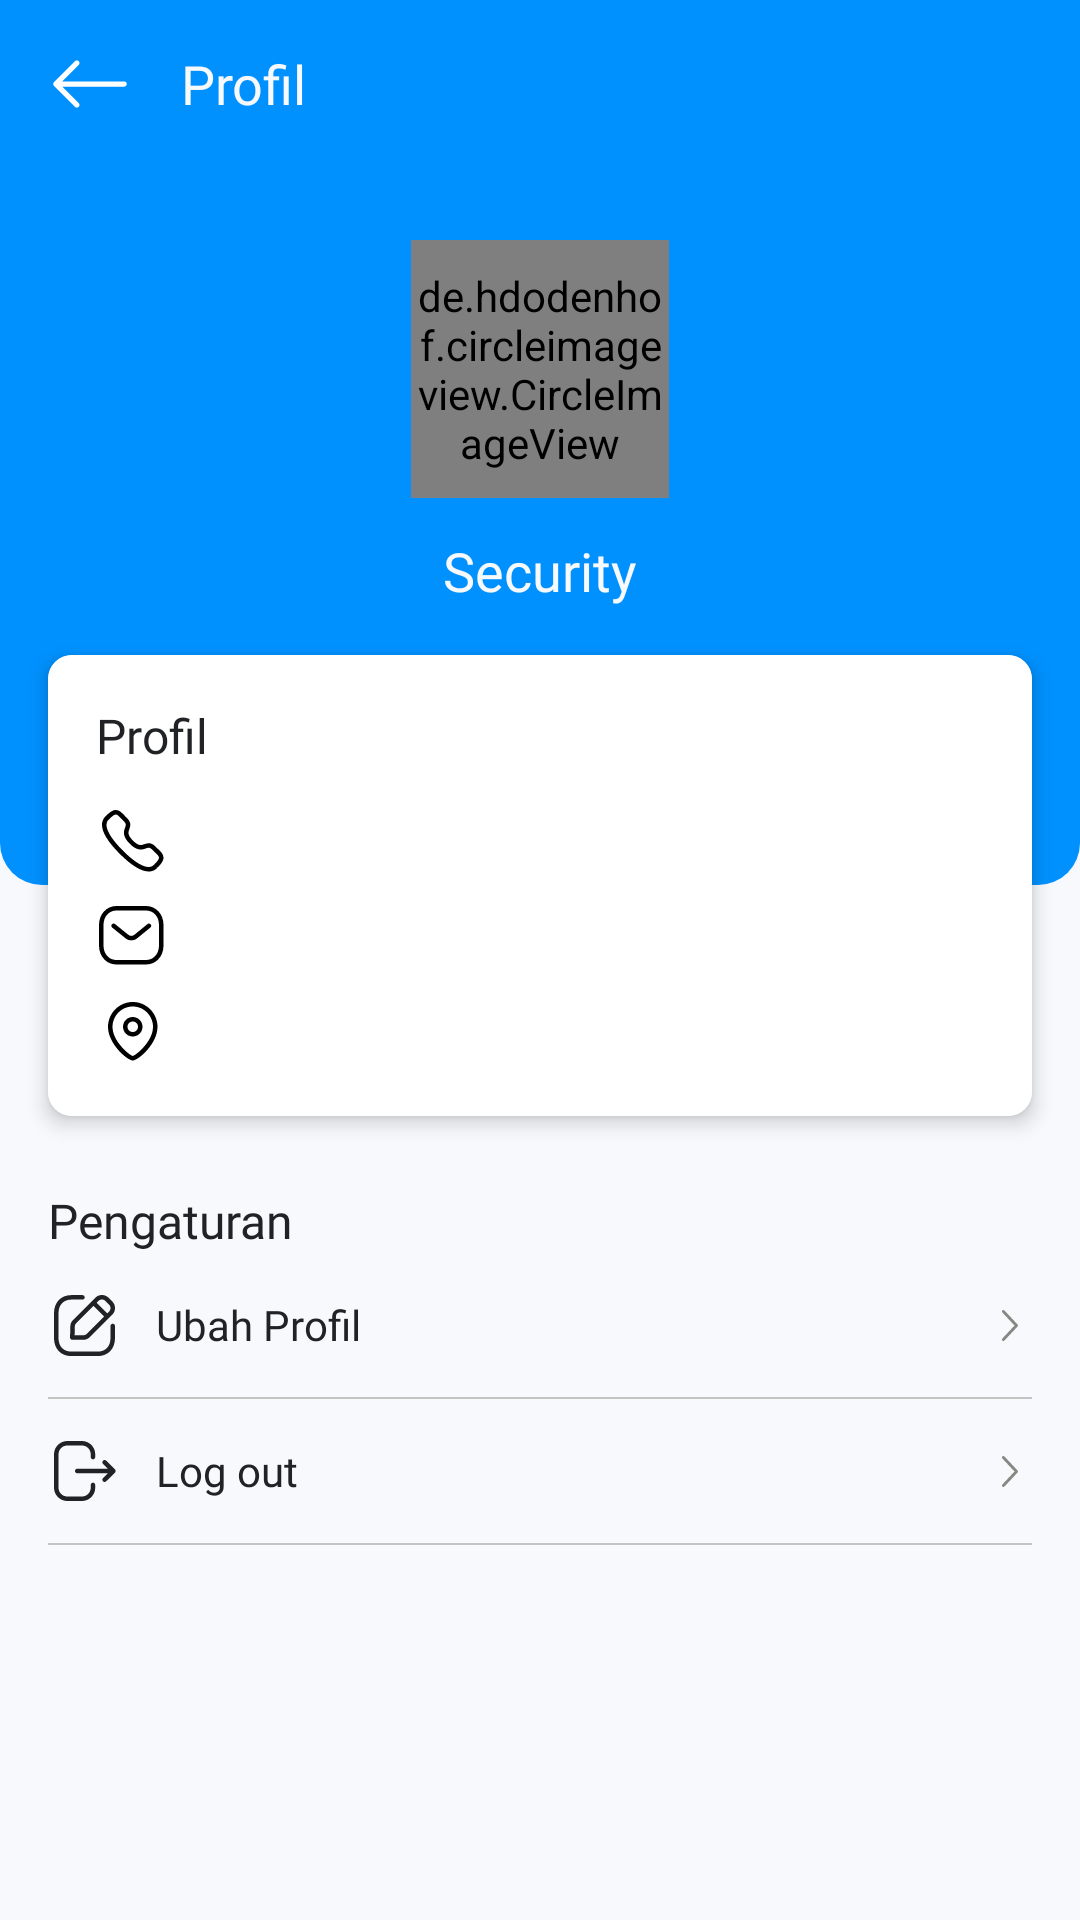

Screen size 1080*1920. Icon name, then its box in pixels as [x1=x1, y1=y1, x2=x2, y2=y2]:
arrow left: [x1=53, y1=60, x2=127, y2=108]
chevron right: [x1=1002, y1=1310, x2=1018, y2=1341], [x1=1002, y1=1456, x2=1018, y2=1487]
edit: [x1=54, y1=1295, x2=115, y2=1356]
